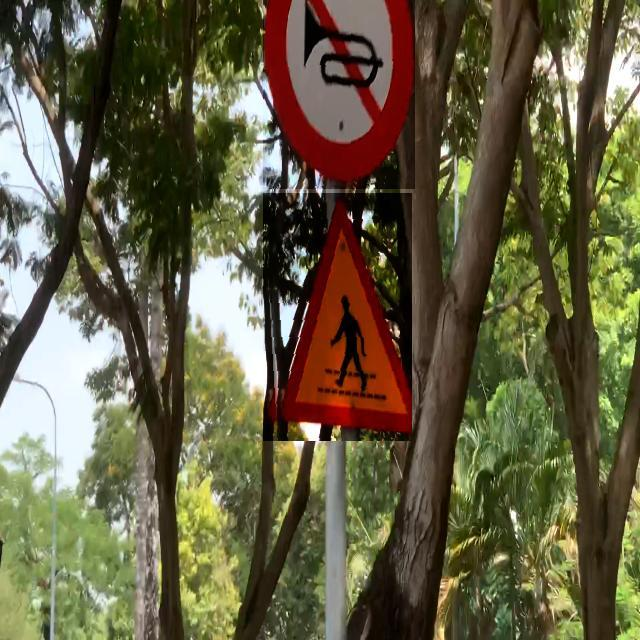P-128: (263, 0, 415, 189)
W-224: (263, 193, 412, 441)
